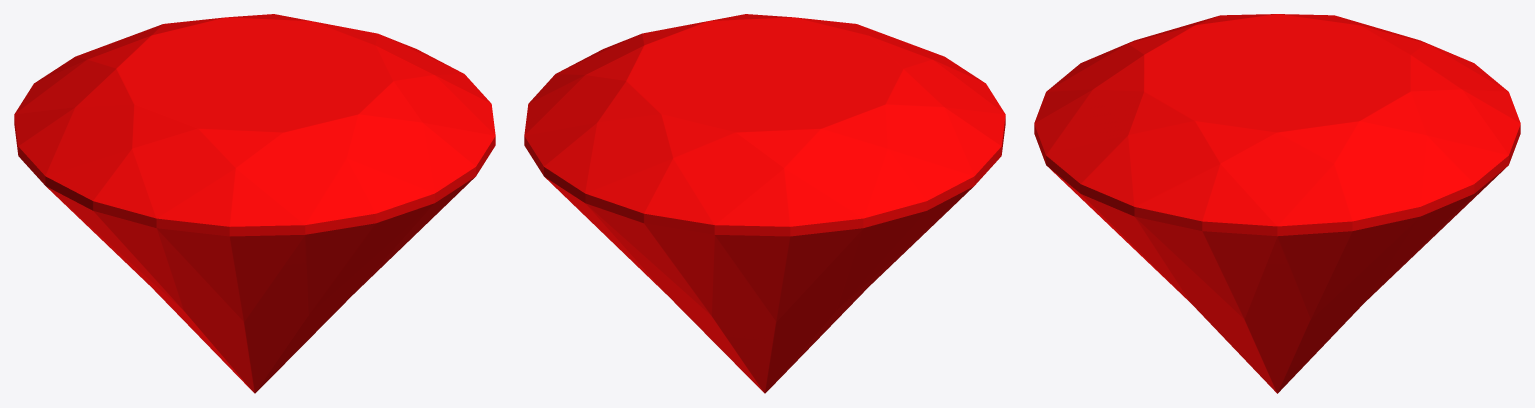
The model's file is jewelRed.fbx.
The picture shows the model from 3 angles, left to right: view 1: azimuth 30°, elevation 25°; view 2: azimuth 150°, elevation 25°; view 3: azimuth 270°, elevation 25°; orthographic projection.
Visible parts, largest first — view 1: geo_diamond; view 2: geo_diamond; view 3: geo_diamond.
Part boxes in pixels (bbox=[...]): geo_diamond: bbox=[14, 14, 495, 393]; geo_diamond: bbox=[524, 14, 1005, 393]; geo_diamond: bbox=[1034, 14, 1520, 393].
Bounding box in the file's own units: 29.79 × 21.67 × 29.79.
